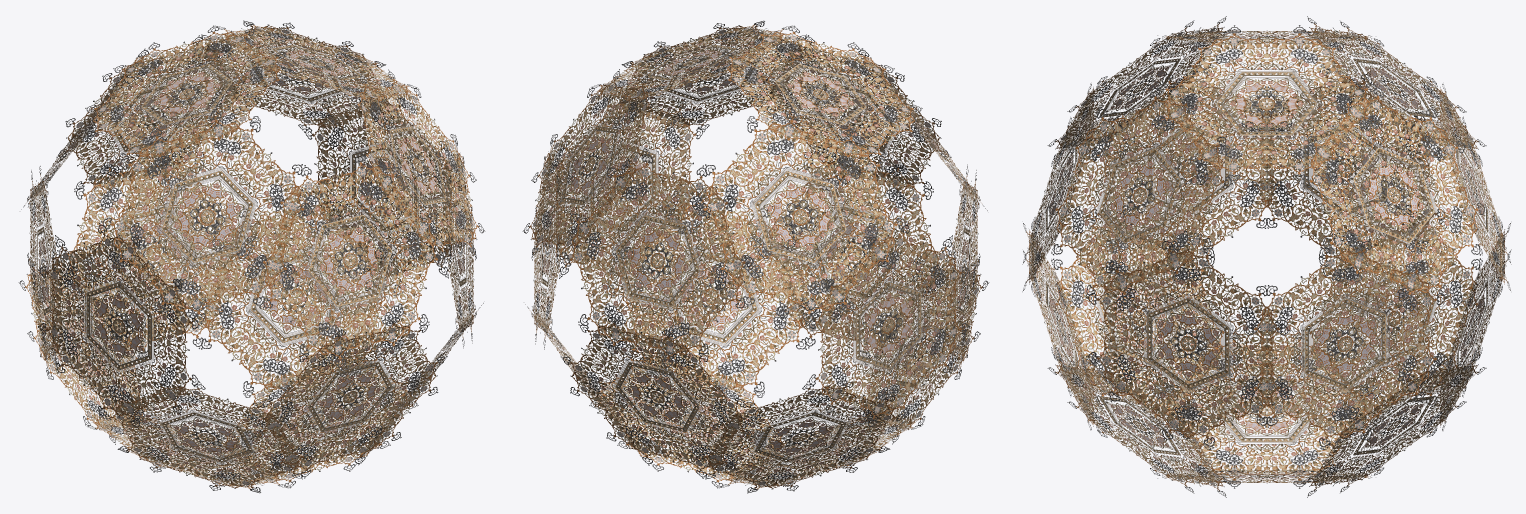
The model's file is IcositruncatedDodecadodecahedron3.gltf.
3 renders of one model, left to right at view 1: azimuth 30°, elevation 25°; view 2: azimuth 150°, elevation 25°; view 3: azimuth 270°, elevation 25°, orthographic. The views are drawn at different scales.
Visible parts, largest first — view 1: IcositruncatedDodecadodecahedron; view 2: IcositruncatedDodecadodecahedron; view 3: IcositruncatedDodecadodecahedron.
Boxes of the visible parts, bbox=[...] form: IcositruncatedDodecadodecahedron: bbox=[18, 20, 485, 493]; IcositruncatedDodecadodecahedron: bbox=[522, 20, 989, 493]; IcositruncatedDodecadodecahedron: bbox=[1022, 16, 1511, 497].
Bounding box in the file's own units: 3.85 × 3.85 × 3.85.
1 material, 1 textured.
